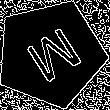M_SE: (16, 20, 85, 87)
